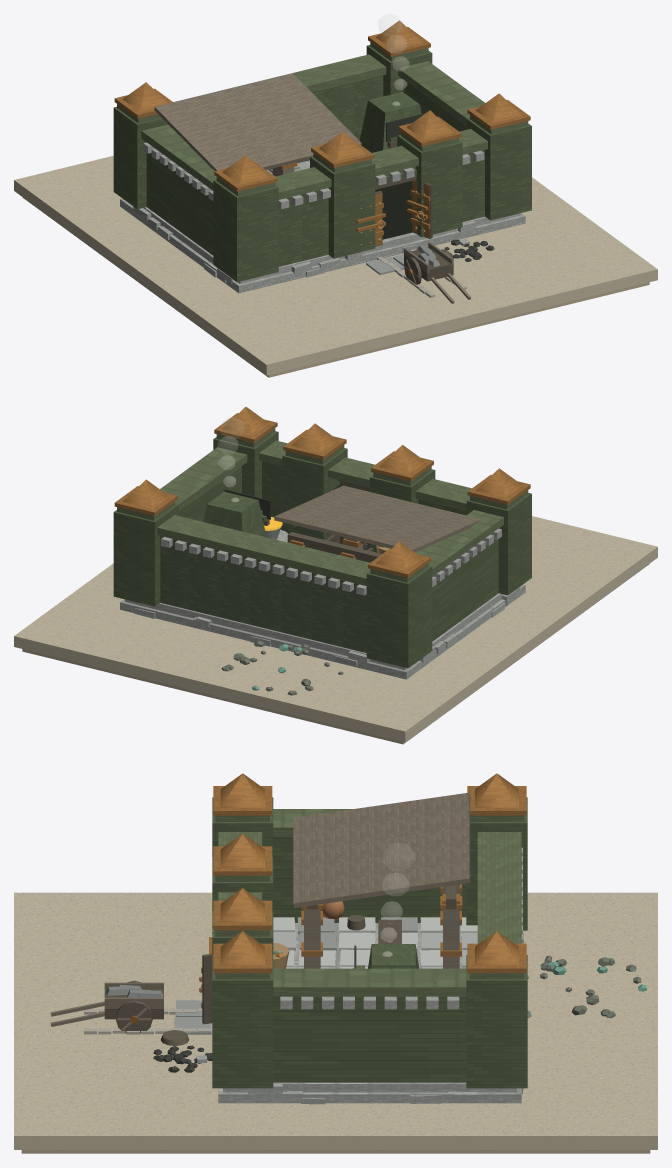
File: townhall-bronze-age-built.glb
3 views of the same model, one above another, from view 1: azimuth 30°, elevation 25°; view 2: azimuth 150°, elevation 25°; view 3: azimuth 270°, elevation 25° (orthographic). The views are drawn at different scales.
Size of the model in its own units: 34 by 15.63 by 38.
59 materials, 35 textured.
